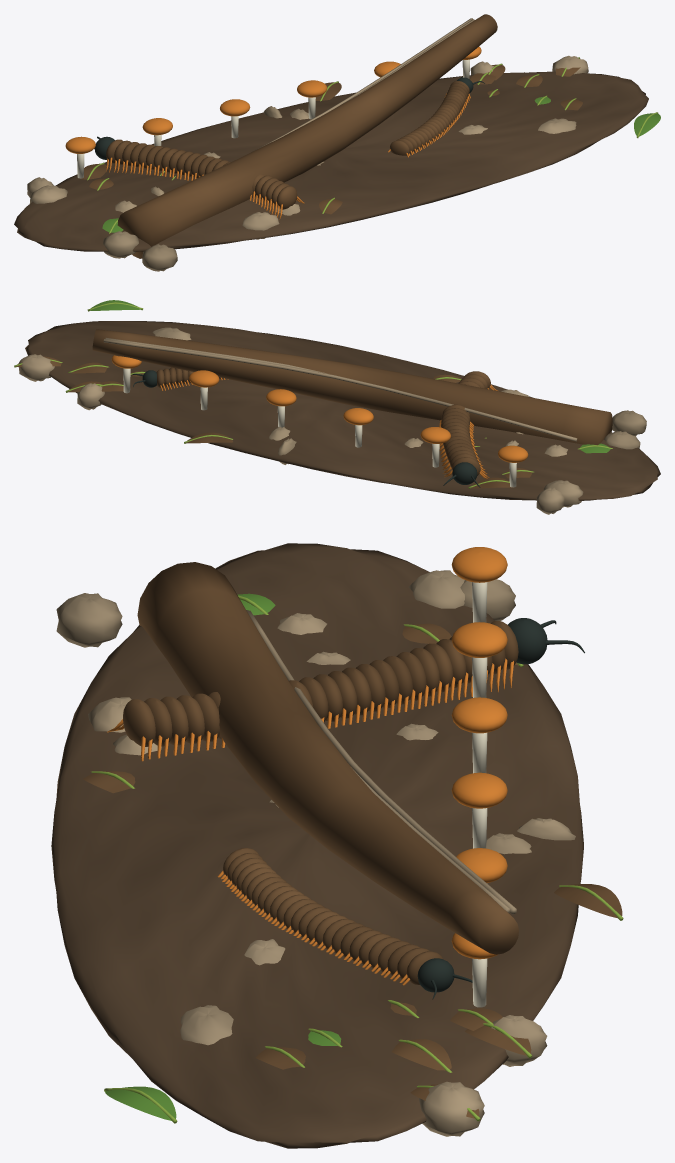
3 renders of one model, top to bottom at view 1: azimuth 30°, elevation 25°; view 2: azimuth 150°, elevation 25°; view 3: azimuth 270°, elevation 25°, orthographic. The views are drawn at different scales.
Parts seen in each view (by area): view 1: B08_SPEC_Substrate_export, B08_SPEC_Bark_export, B08_SPEC_Matrix sandstone_export, B08_SPEC_Ochre scales_export, B08_SPEC_Pale scales_export, B08_SPEC_Leaf jade_export, B08_SPEC_Leaf new growth_export, B08_SPEC_Chitin_export; view 2: B08_SPEC_Substrate_export, B08_SPEC_Bark_export, B08_SPEC_Matrix sandstone_export, B08_SPEC_Ochre scales_export, B08_SPEC_Pale scales_export, B08_SPEC_Chitin_export, B08_SPEC_Leaf new growth_export, B08_SPEC_Leaf jade_export; view 3: B08_SPEC_Substrate_export, B08_SPEC_Bark_export, B08_SPEC_Matrix sandstone_export, B08_SPEC_Ochre scales_export, B08_SPEC_Pale scales_export, B08_SPEC_Chitin_export, B08_SPEC_Leaf jade_export, B08_SPEC_Leaf new growth_export.
Part boxes in pixels (<box>): B08_SPEC_Substrate_export: <box>14,71,648,251</box>; B08_SPEC_Bark_export: <box>81,14,582,258</box>; B08_SPEC_Matrix sandstone_export: <box>27,18,588,271</box>; B08_SPEC_Ochre scales_export: <box>65,46,481,219</box>; B08_SPEC_Pale scales_export: <box>77,59,469,178</box>; B08_SPEC_Leaf jade_export: <box>102,96,660,232</box>; B08_SPEC_Leaf new growth_export: <box>87,57,658,233</box>; B08_SPEC_Chitin_export: <box>94,77,484,159</box>; B08_SPEC_Substrate_export: <box>25,321,660,500</box>; B08_SPEC_Bark_export: <box>16,329,612,488</box>; B08_SPEC_Matrix sandstone_export: <box>18,327,646,514</box>; B08_SPEC_Ochre scales_export: <box>111,355,528,478</box>; B08_SPEC_Pale scales_export: <box>123,368,516,487</box>; B08_SPEC_Chitin_export: <box>131,370,480,487</box>; B08_SPEC_Leaf new growth_export: <box>14,302,612,488</box>; B08_SPEC_Leaf jade_export: <box>90,300,610,453</box>; B08_SPEC_Substrate_export: <box>51,543,583,1148</box>; B08_SPEC_Bark_export: <box>83,562,622,1118</box>; B08_SPEC_Matrix sandstone_export: <box>56,570,575,1136</box>; B08_SPEC_Ochre scales_export: <box>107,547,514,985</box>; B08_SPEC_Pale scales_export: <box>472,582,487,1007</box>; B08_SPEC_Chitin_export: <box>417,618,584,999</box>; B08_SPEC_Leaf jade_export: <box>105,593,341,1120</box>; B08_SPEC_Leaf new growth_export: <box>91,595,623,1123</box>.
Size of the model in its own units: 2.63 by 0.3323 by 1.06.
